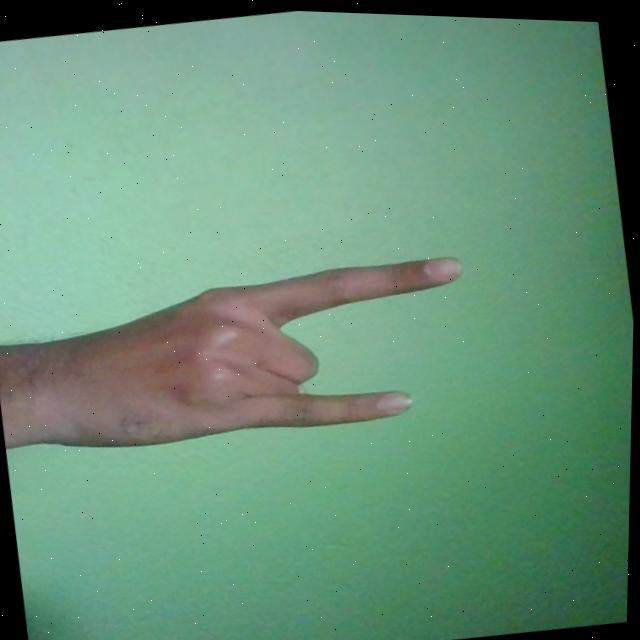Rock On: (0, 236, 486, 472)
